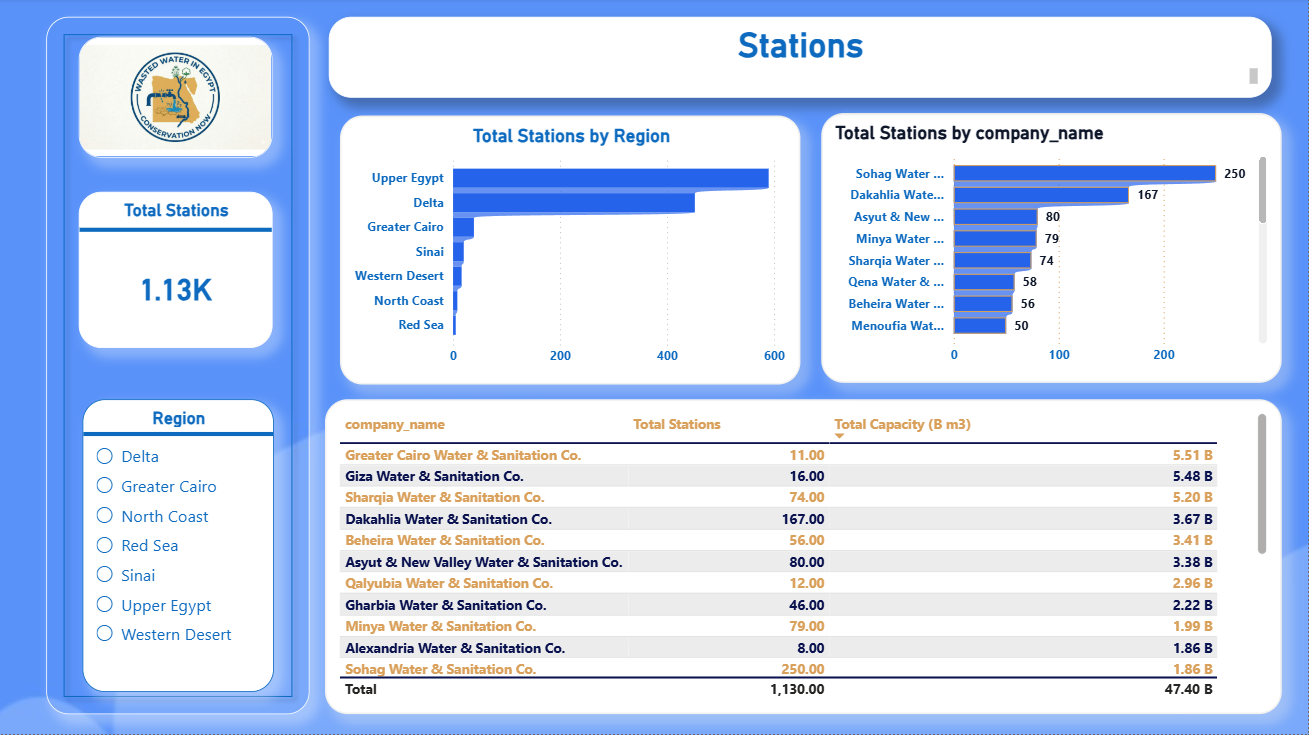

This screenshot's page, from the dashboard's own definition file:
{"tool":"powerbi","page":{"name":"station","canvas":[1280,720],"ordinal":15},"visuals":[{"type":"barChart","title":"Total Stations by Region","fields":{"Category":["Dim_Company.region"],"Y":["_Measures.Total Stations"]},"box":[332.1,115.3,450,263],"z":0},{"type":"tableEx","fields":{"Values":["Dim_Company.company_name","_Measures.Total Stations","_Measures.Total Capacity (M m3)"]},"box":[318.5,392.8,935.7,307.9],"z":1000},{"type":"barChart","fields":{"Category":["Dim_Company.company_name"],"Y":["_Measures.Total Stations"]},"box":[803.8,112.2,450.4,263.9],"z":2000},{"type":"card","title":"Total Stations","fields":{"Values":["_Measures.Total Stations"]},"box":[77.3,189.6,189.6,153.2],"z":3000},{"type":"shape","box":[45.5,18.2,257.8,682.5],"z":4000},{"type":"image","box":[77.3,37.9,189.6,118.3],"z":5000},{"type":"listSlicer","title":"Region","fields":{"Values":["Dim_Company.region"]},"box":[80.6,393.1,187.2,286.6],"z":6000},{"type":"textbox","title":"Stations","box":[321.5,18.2,922.1,78.9],"z":7000}]}

Visuals, with their boxes in screenshot pixels (x1, y1, x2, y2), scaled from the page's 1280x720 canvas onto the 1309x735 screenshot:
"Total Stations by Region" barChart: (x1=340, y1=118, x2=800, y2=386)
tableEx - Dim_Company.company_name x _Measures.Total Stations: (x1=326, y1=401, x2=1283, y2=715)
barChart - Dim_Company.company_name x _Measures.Total Stations: (x1=822, y1=115, x2=1283, y2=384)
"Total Stations" card: (x1=79, y1=194, x2=273, y2=350)
shape: (x1=47, y1=19, x2=310, y2=715)
image: (x1=79, y1=39, x2=273, y2=159)
"Region" listSlicer: (x1=82, y1=401, x2=274, y2=694)
"Stations" textbox: (x1=329, y1=19, x2=1272, y2=99)
